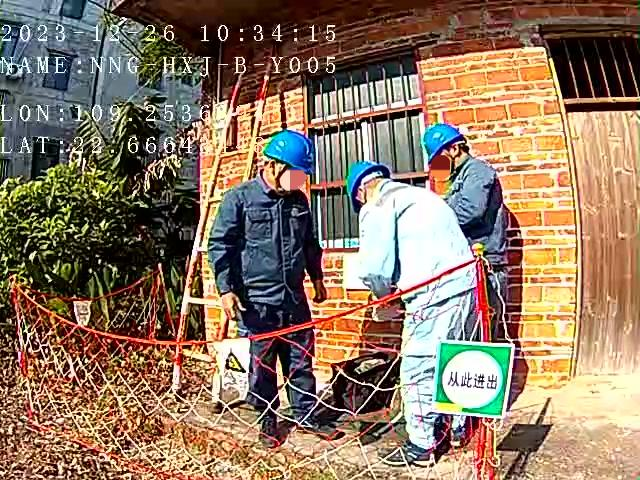halt: (263, 133, 318, 194), (349, 165, 395, 213), (425, 126, 473, 172)
inear: (271, 163, 292, 187), (445, 145, 465, 168)
